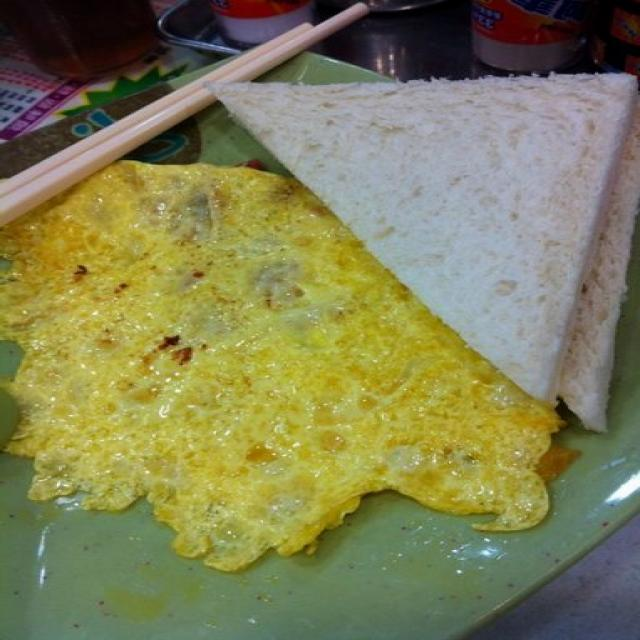omelette: (2, 168, 572, 574)
